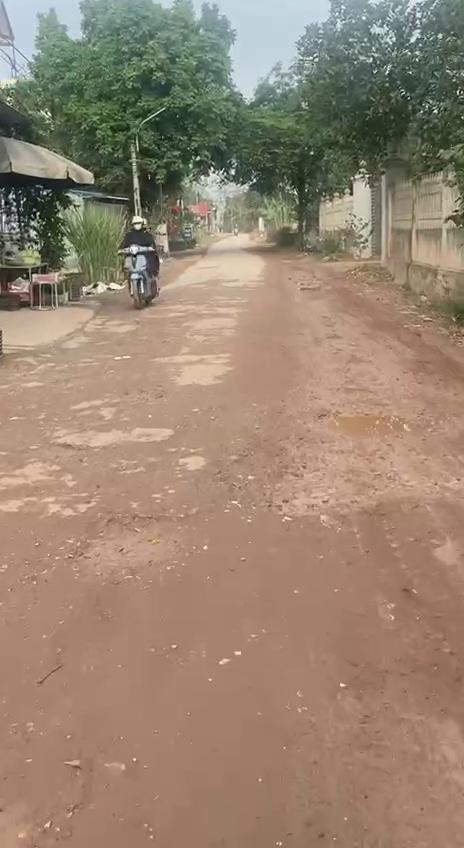pothole: (67, 505, 196, 576), (258, 474, 358, 520), (320, 410, 443, 440)
